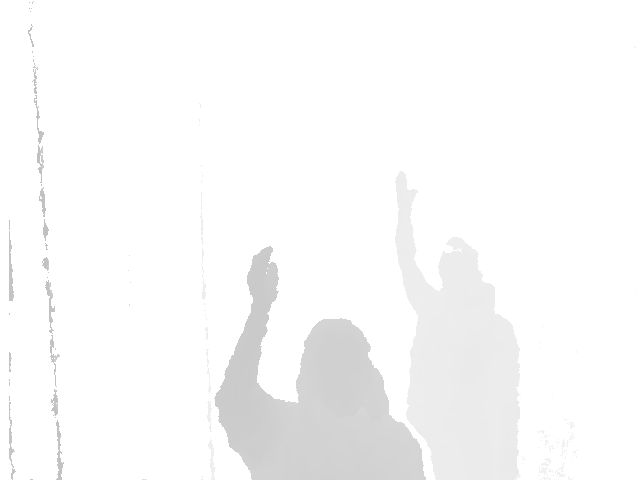hand: (247, 245, 279, 308), (394, 171, 418, 211)
head: (296, 318, 382, 413), (439, 237, 484, 288)
person: (213, 245, 426, 480), (394, 170, 525, 480)
